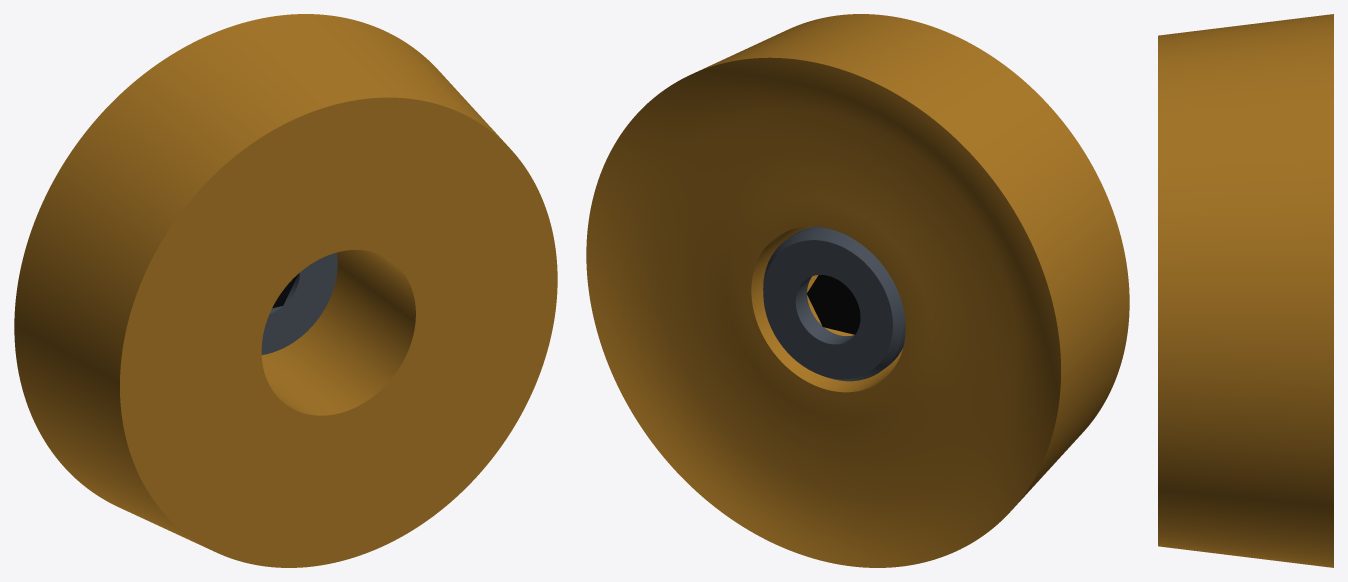
The model's file is wheel_insert_20.obj.
The picture shows the model from 3 angles, left to right: view 1: azimuth 30°, elevation 25°; view 2: azimuth 150°, elevation 25°; view 3: azimuth 270°, elevation 25°; orthographic projection.
Parts seen in each view (by area): view 1: RCMX_D20_carbide.010, D20_fixing_screw.010; view 2: RCMX_D20_carbide.010, D20_fixing_screw.010, D20_hex_socket.010; view 3: RCMX_D20_carbide.010.
Part boxes in pixels (x1=…): RCMX_D20_carbide.010: x1=14, y1=14, x2=557, y2=567; D20_fixing_screw.010: x1=261, y1=252, x2=337, y2=354; RCMX_D20_carbide.010: x1=586, y1=14, x2=1129, y2=567; D20_fixing_screw.010: x1=763, y1=226, x2=905, y2=381; D20_hex_socket.010: x1=807, y1=275, x2=860, y2=334; RCMX_D20_carbide.010: x1=1158, y1=14, x2=1333, y2=567.
Size of the model in its own units: 20 by 20 by 6.35.
